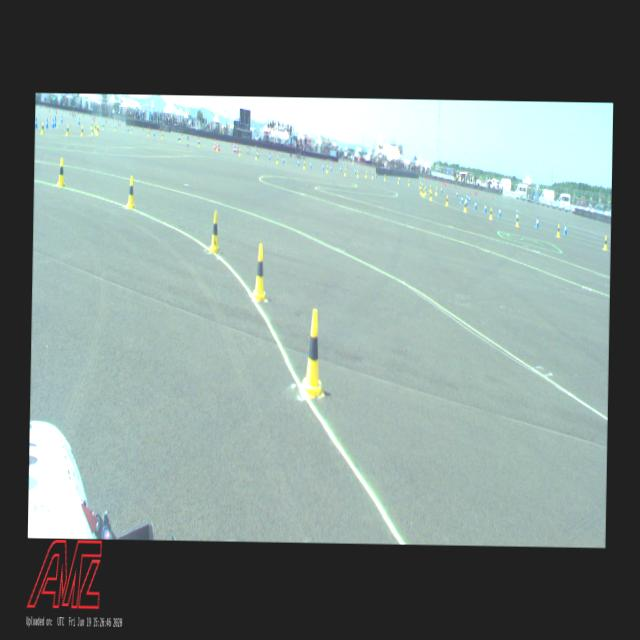blue_cone: (498, 206, 501, 216), (536, 216, 538, 228), (564, 223, 566, 234), (484, 202, 486, 212), (35, 118, 37, 128), (516, 212, 518, 222), (460, 194, 462, 203), (52, 119, 54, 128), (46, 118, 48, 127), (54, 118, 56, 127), (474, 200, 476, 208), (268, 152, 270, 160), (468, 194, 470, 202), (234, 146, 236, 154), (456, 190, 458, 197), (440, 185, 442, 192), (466, 193, 468, 200), (78, 118, 80, 124), (127, 125, 129, 131), (354, 168, 356, 173), (283, 156, 284, 164), (298, 158, 299, 166), (61, 115, 62, 122), (102, 121, 103, 128), (153, 130, 154, 136), (330, 164, 331, 170), (322, 164, 323, 170), (340, 166, 341, 172), (375, 172, 376, 177), (258, 151, 258, 158), (422, 182, 422, 188), (466, 197, 466, 206), (310, 161, 310, 168), (178, 134, 178, 140)
large_orange_cone: (213, 138, 216, 150), (232, 142, 235, 152), (218, 140, 220, 150), (236, 142, 238, 152)
yellow_cone: (300, 309, 326, 396), (252, 243, 266, 300), (210, 210, 220, 251), (126, 175, 134, 208), (58, 158, 64, 186), (603, 236, 607, 248), (556, 223, 559, 236), (489, 206, 492, 218), (429, 191, 432, 200), (42, 122, 44, 134), (516, 214, 518, 226), (66, 124, 68, 135), (255, 152, 258, 159), (215, 143, 218, 150), (81, 126, 83, 136), (446, 196, 448, 206), (418, 182, 421, 188), (464, 202, 466, 211), (435, 187, 437, 195), (92, 126, 94, 134), (422, 188, 424, 196), (97, 126, 99, 134), (94, 123, 96, 131), (424, 186, 426, 194), (303, 161, 305, 168), (276, 156, 278, 163), (238, 148, 240, 155), (429, 185, 431, 192), (114, 124, 116, 131), (130, 126, 132, 133), (420, 186, 422, 193), (178, 136, 180, 142), (90, 122, 92, 128), (147, 130, 149, 136), (198, 140, 200, 146), (344, 168, 345, 176), (326, 165, 327, 172), (357, 170, 358, 177), (103, 122, 104, 129), (384, 174, 385, 180), (372, 172, 372, 178), (366, 171, 366, 177), (408, 180, 408, 186), (162, 132, 162, 138), (398, 178, 398, 184)
